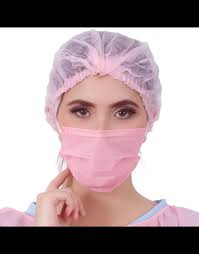with_mask_and_cap: (54, 35, 155, 192)
